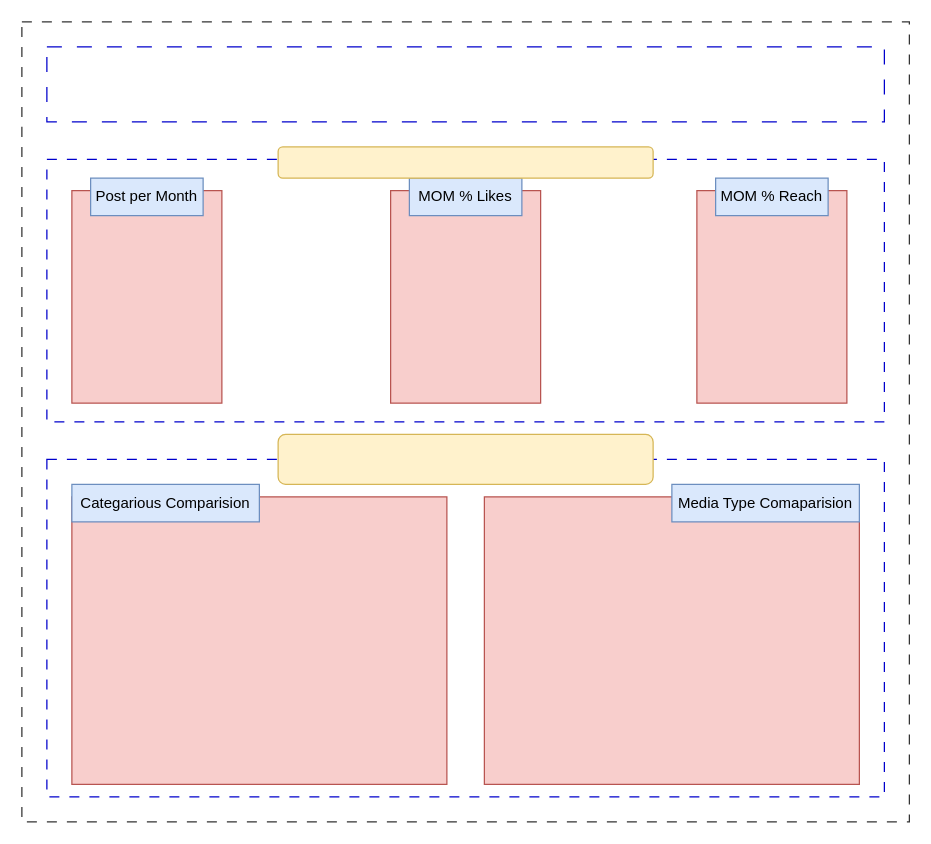
Image size: 931x844. Some labels were removed from this diagram. Here are the shapes that lost their labels. From the top down, the centre of each, then its label:
point (465, 84): Title & Logos
point (465, 162): KPIs
point (465, 458): Charts
